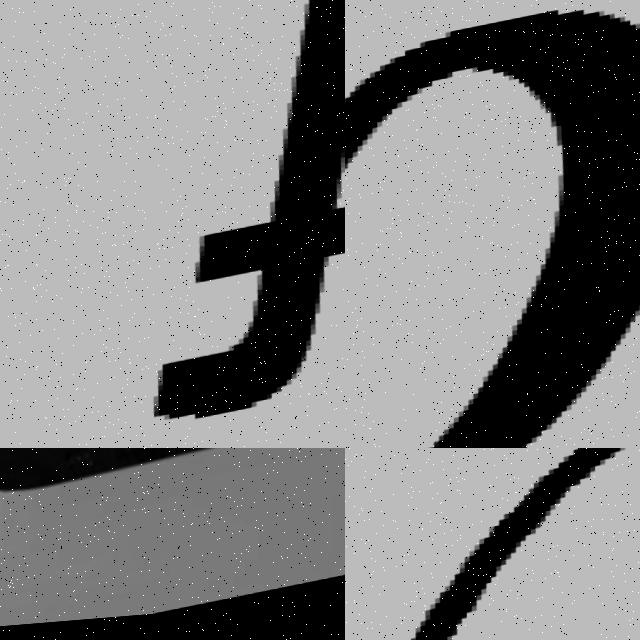9: (345, 448, 640, 640)
C: (345, 12, 640, 448)
D: (0, 448, 275, 512)
F: (98, 0, 345, 444)
